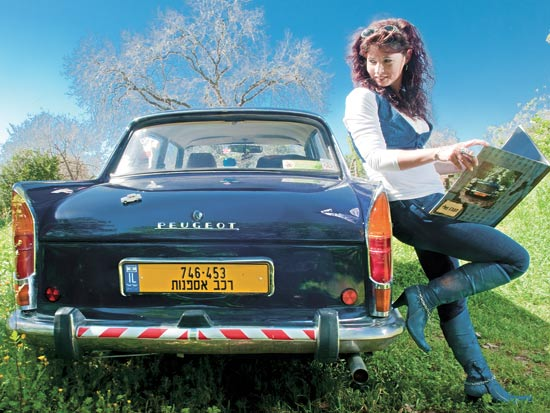licence: (118, 256, 275, 296)
